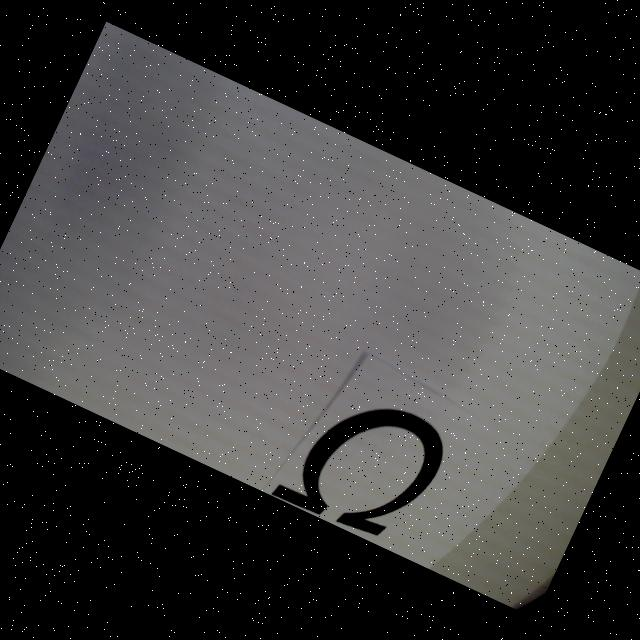OMEGA: (270, 374, 456, 555)
